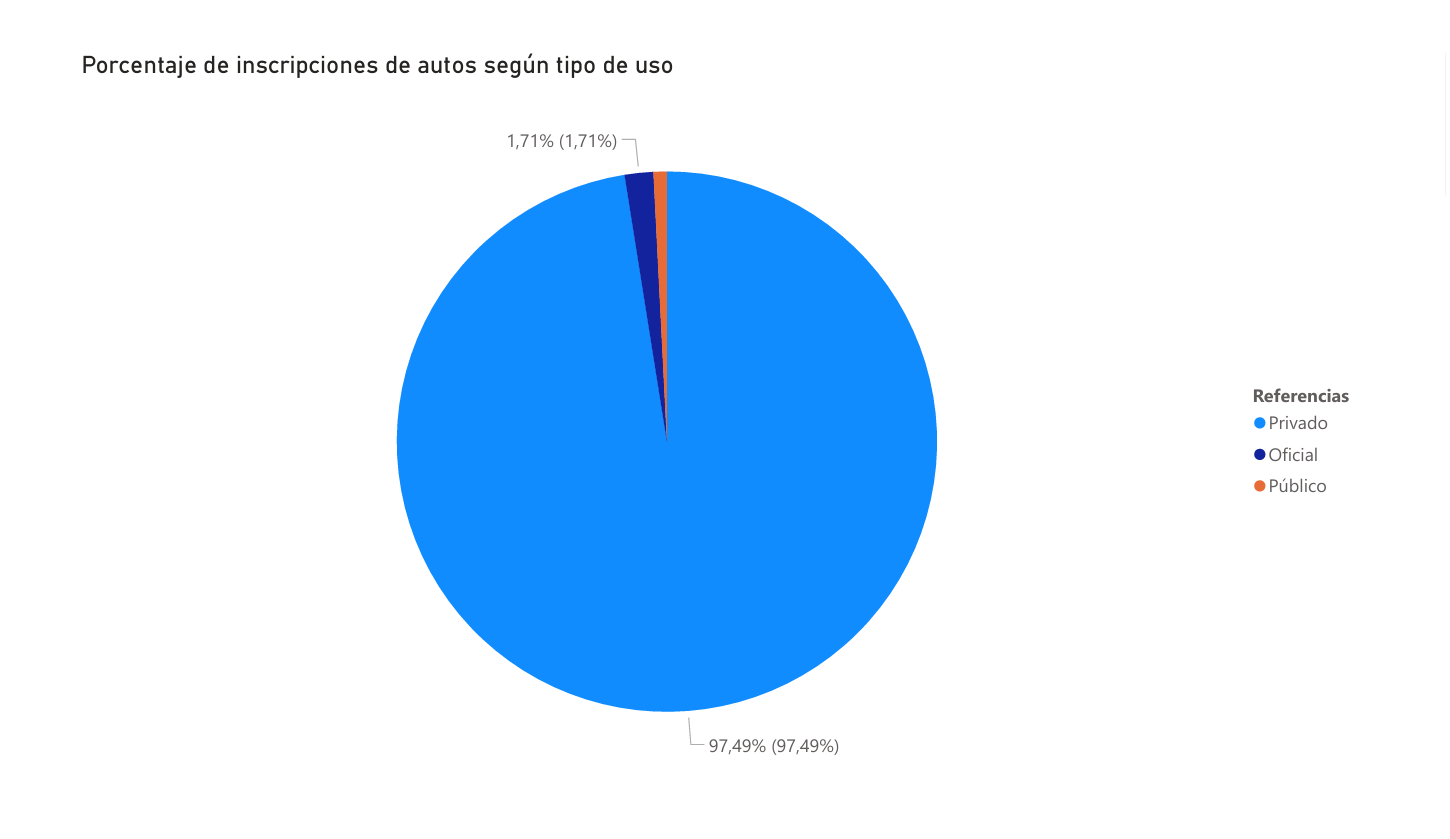

What the dashboard file says about the page in this screenshot:
{"tool":"powerbi","page":{"name":"Página 4","canvas":[1280,720],"ordinal":6},"visuals":[{"type":"pieChart","title":"Porcentaje de inscripciones de autos según tipo de uso","fields":{"Category":["inscripciones.automotor_uso_descripcion"],"Y":["Sum(inscripciones.automotor_anio_modelo)"]},"box":[61.7,32.9,1155.4,672.4],"z":1000}]}

Visuals, with their boxes in screenshot pixels (x1, y1, x2, y2), scaled from the page's 1280x720 canvas onto the 1450x839 screenshot:
"Porcentaje de inscripciones de autos según tipo de uso" pieChart: 70, 38, 1379, 822
